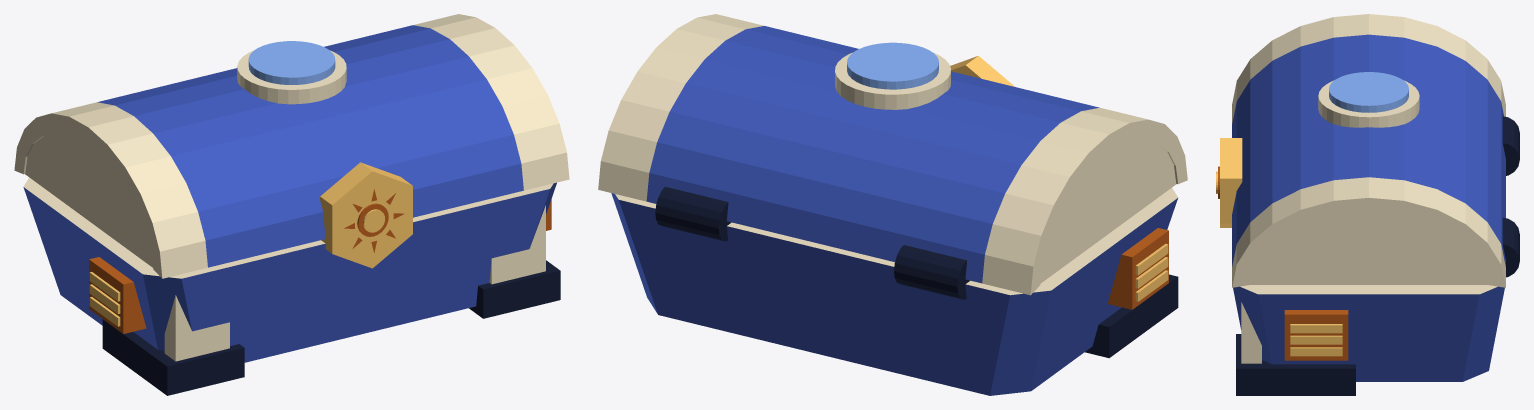
File: cofre.glb
The picture shows the model from 3 angles, left to right: view 1: azimuth 30°, elevation 25°; view 2: azimuth 150°, elevation 25°; view 3: azimuth 270°, elevation 25°; orthographic projection. The views are drawn at different scales.
Visible parts, largest first — view 1: Carcasa curva, Cuba hueca, Aro izquierdo, Aro derecho, Cierre lateral de tapa, Broche hexagonal, Pie, Botón azul, Pie.001, Aro del botón, Refuerzo frontal, Interruptor lateral (+1 smaller); view 2: Carcasa curva, Cuba hueca, Aro izquierdo, Aro derecho, Cierre lateral de tapa, Botón azul, Pie, Bisagra fija.001, Bisagra fija, Aro del botón, Interruptor lateral, Broche hexagonal; view 3: Carcasa curva, Cuba hueca, Cierre lateral de tapa.001, Aro derecho, Aro izquierdo, Pie.001, Botón azul, Aro del botón, Interruptor lateral.001, Broche hexagonal, Refuerzo frontal.001, Bisagra fija.001 (+4 smaller).
Boxes of the visible parts, x1,y1,x2,y2 form: Carcasa curva: (97,25,523,267); Cuba hueca: (23,177,556,362); Aro izquierdo: (14,102,207,278); Aro derecho: (413,14,569,190); Cierre lateral de tapa: (25,134,152,267); Broche hexagonal: (320,162,412,268); Pie: (102,319,244,395); Botón azul: (248,41,335,84); Pie.001: (469,260,560,318); Aro del botón: (237,50,346,104); Refuerzo frontal: (164,295,229,361); Interruptor lateral: (89,257,146,333); Carcasa curva: (646,26,1099,283); Cuba hueca: (611,188,1178,395); Aro izquierdo: (982,107,1187,295); Aro derecho: (598,14,763,201); Cierre lateral de tapa: (1040,142,1176,283); Botón azul: (847,42,938,89); Pie: (1085,274,1178,358); Bisagra fija.001: (655,186,731,241); Bisagra fija: (894,245,969,299); Aro del botón: (835,52,950,109); Interruptor lateral: (1108,228,1168,309); Broche hexagonal: (950,56,1014,86); Carcasa curva: (1232,34,1505,266); Cuba hueca: (1233,285,1504,381); Cierre lateral de tapa.001: (1249,217,1488,284); Aro derecho: (1232,177,1505,287); Aro izquierdo: (1232,14,1505,123); Pie.001: (1236,334,1355,395); Botón azul: (1329,72,1408,112); Aro del botón: (1318,80,1419,127); Interruptor lateral.001: (1284,310,1348,360); Broche hexagonal: (1220,138,1242,227); Refuerzo frontal.001: (1241,302,1261,363); Bisagra fija.001: (1502,217,1519,277).
Bounding box in the file's own units: 2.47 × 1.29 × 1.62.
